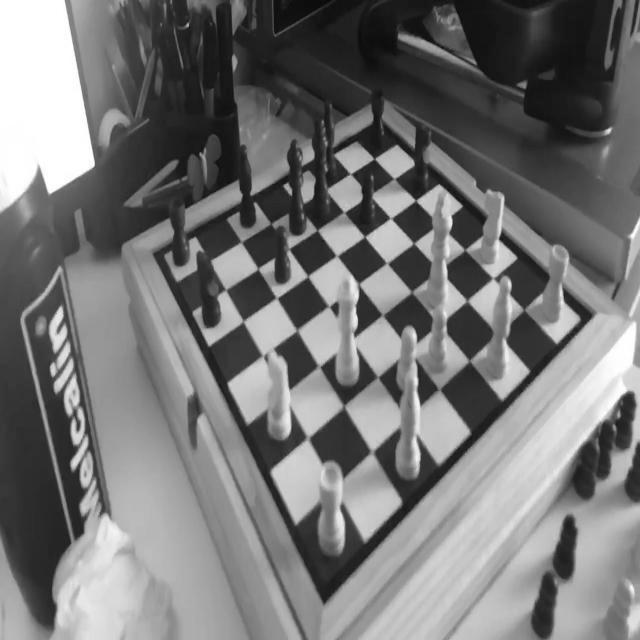chess-table-corners: (314, 580, 334, 616), (145, 236, 162, 266), (586, 297, 602, 325)
